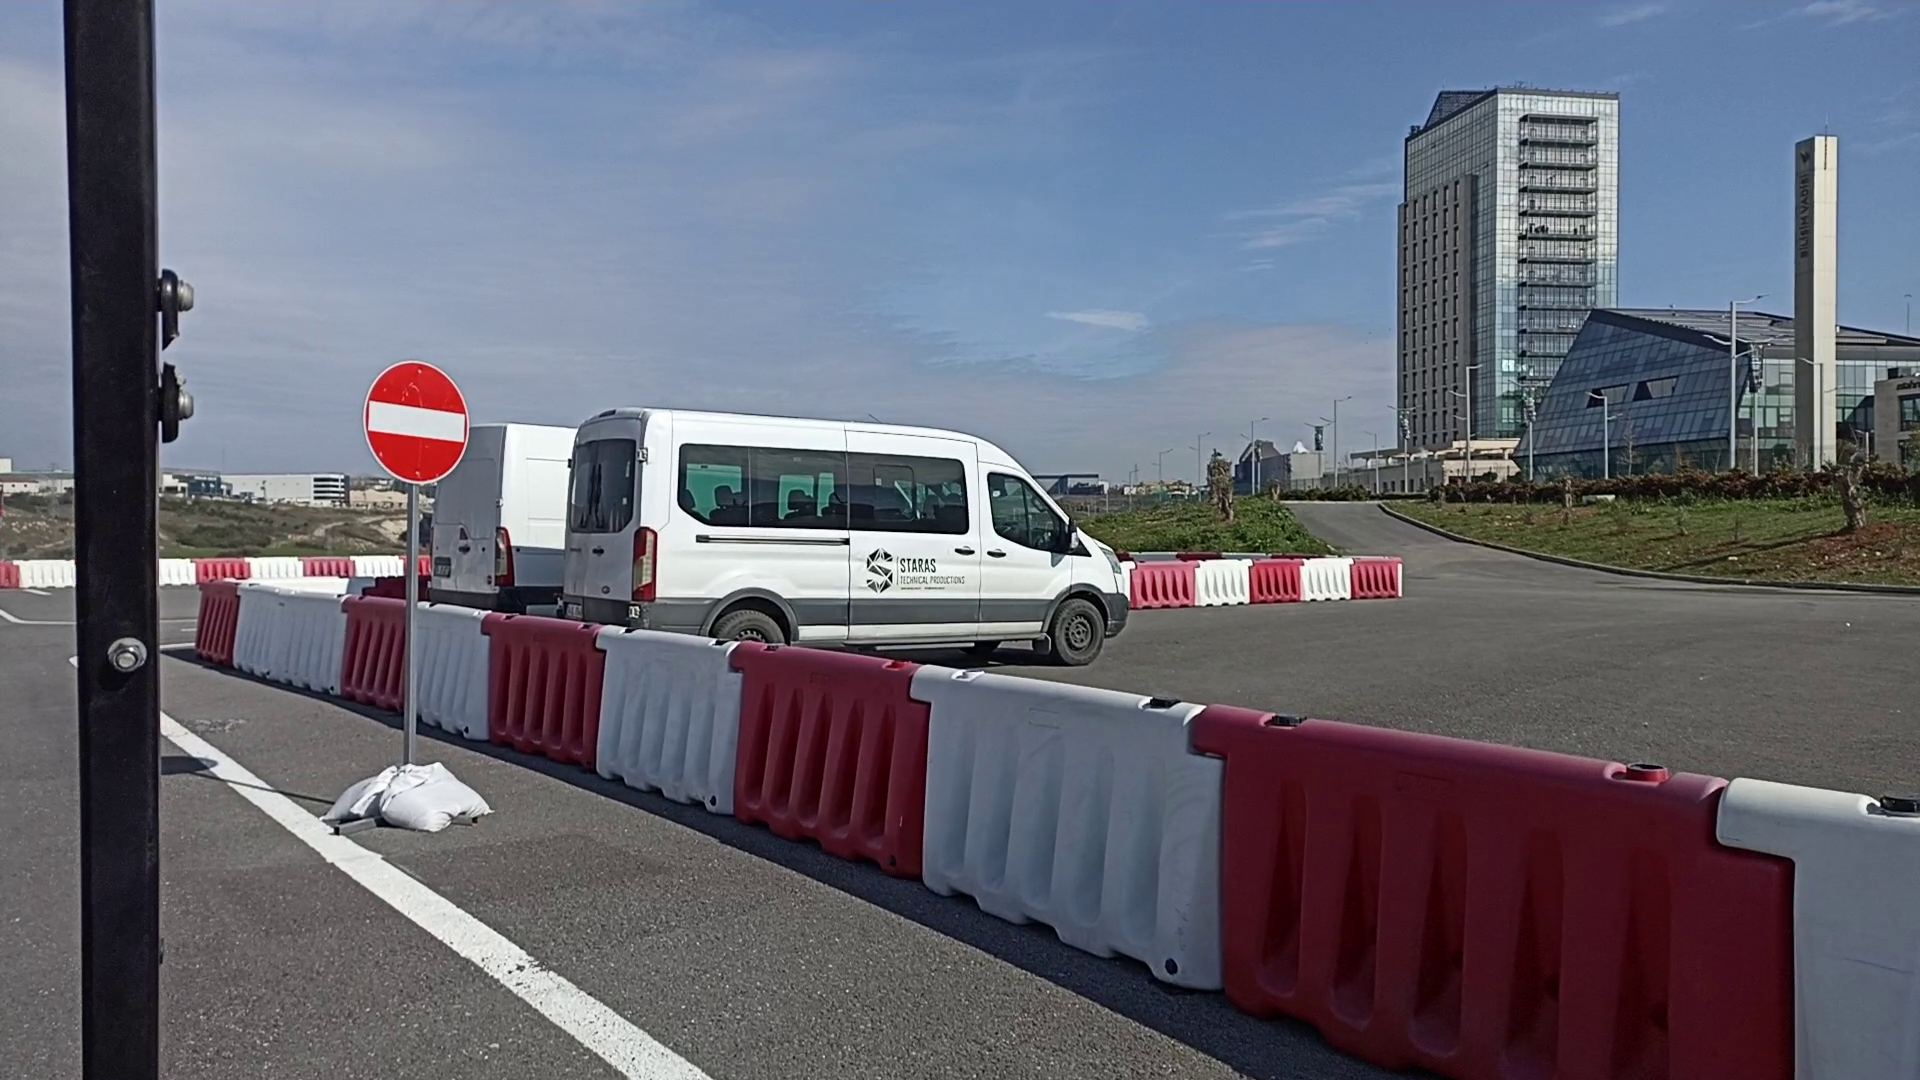noentryway: (361, 357, 473, 487)
